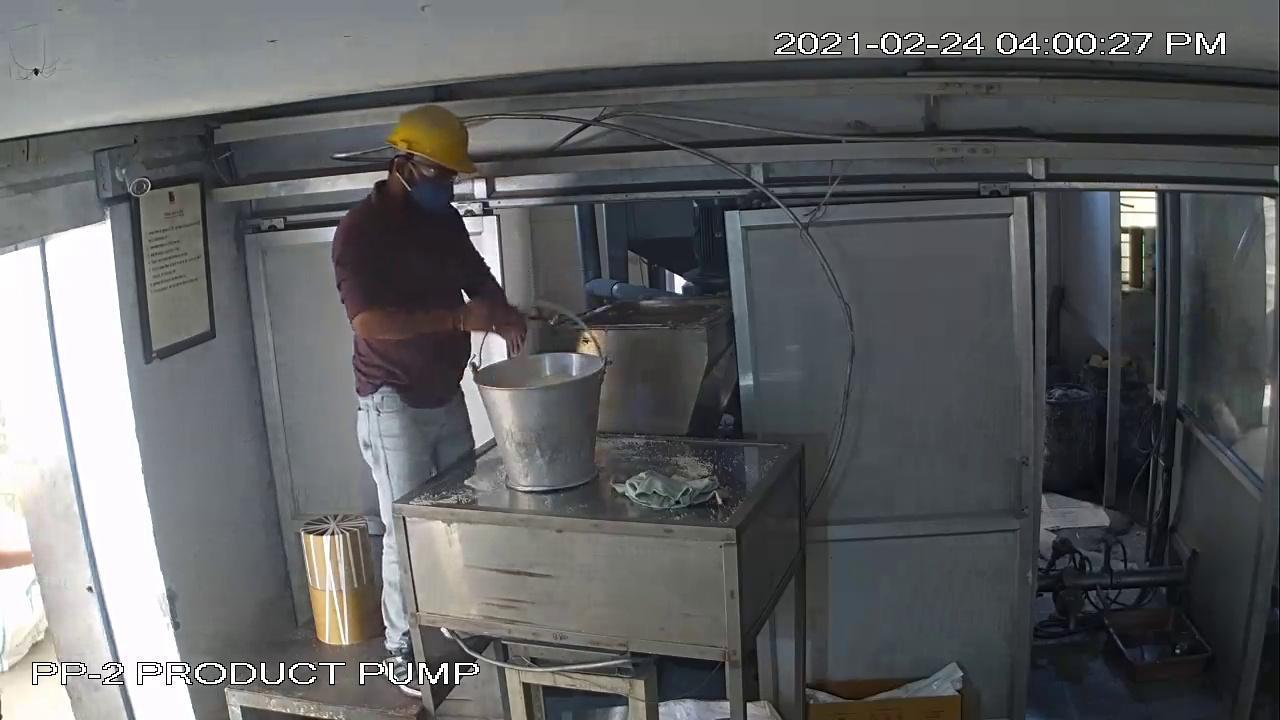helmet: (378, 99, 497, 178)
